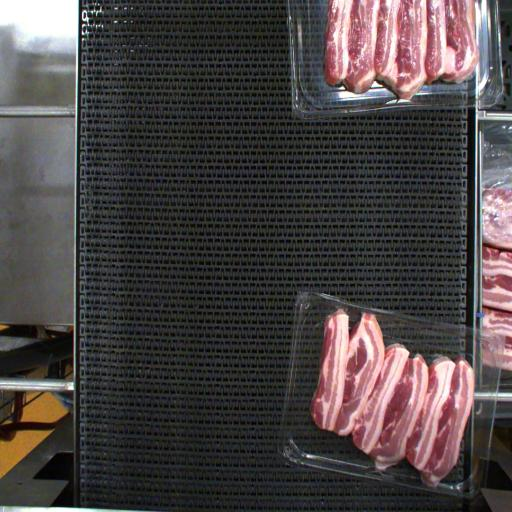packaging-error: (330, 296, 350, 318)
